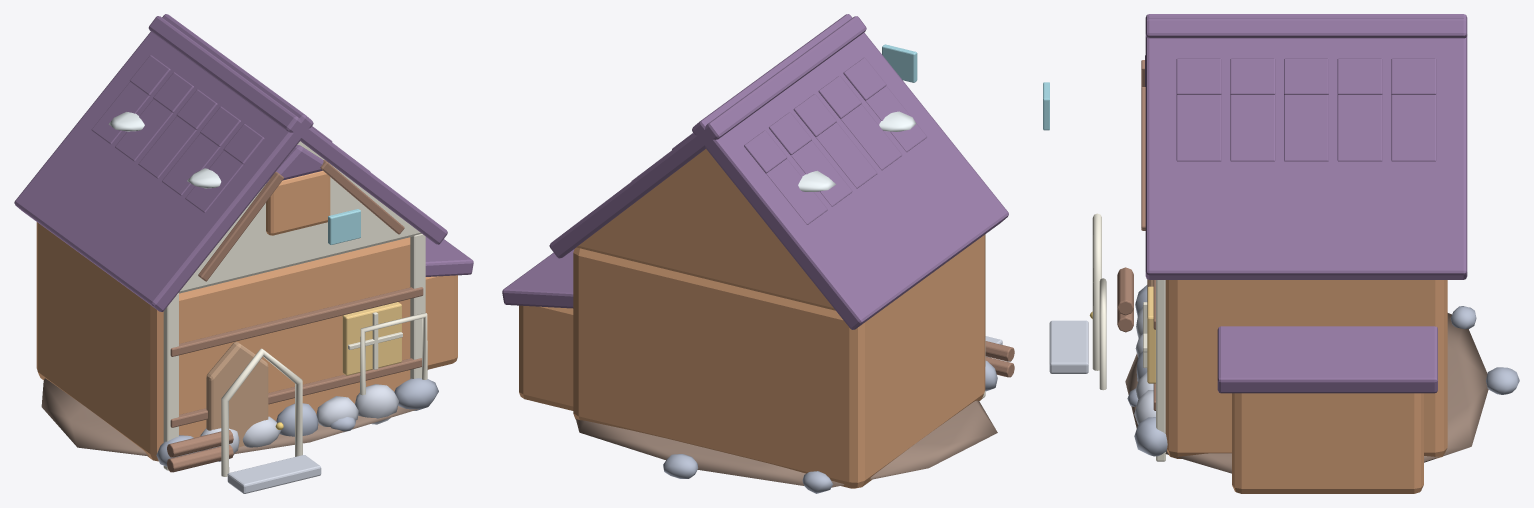
Rendered from northern_house_orange.glb.
3 renders of one model, left to right at view 1: azimuth 30°, elevation 25°; view 2: azimuth 150°, elevation 25°; view 3: azimuth 270°, elevation 25°, orthographic. The views are drawn at different scales.
Visible parts, largest first — view 1: northern_house_orange.001; view 2: northern_house_orange.001; view 3: northern_house_orange.001.
Part boxes in pixels (<box>): northern_house_orange.001: <box>14,14,473,493</box>; northern_house_orange.001: <box>502,14,1014,493</box>; northern_house_orange.001: <box>1043,14,1519,493</box>.
Bounding box in the file's own units: 13.06 × 10.65 × 12.24.
